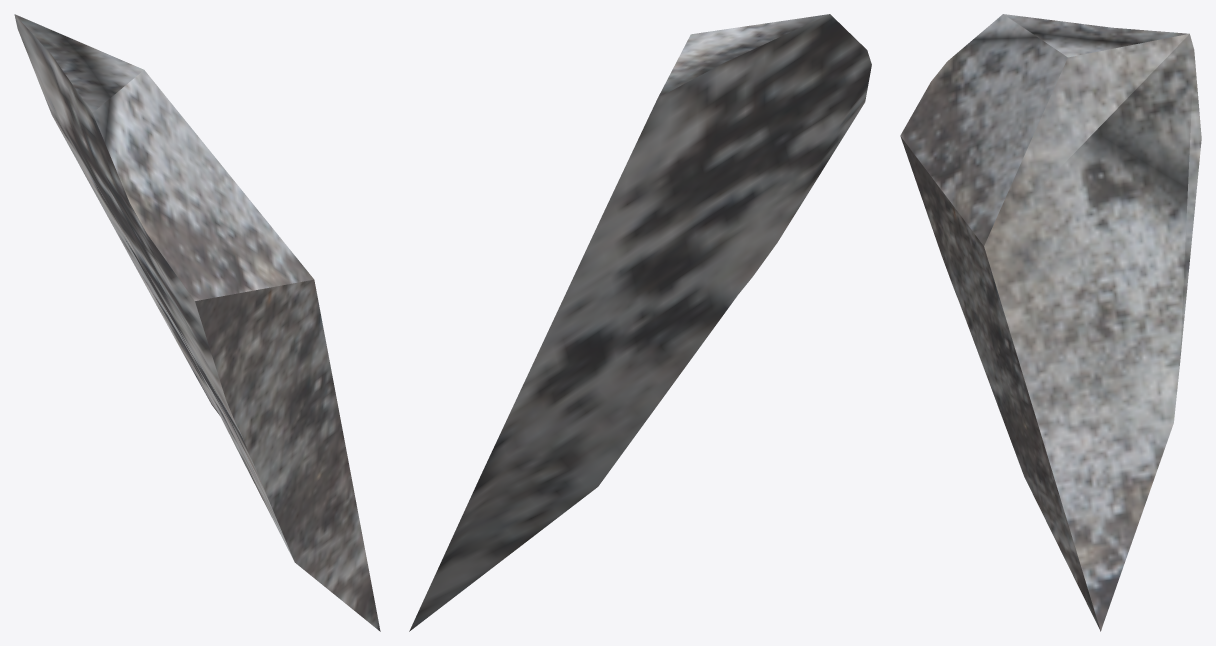
The model's file is Asteroid_Large_001_02_005_03_007.fbx.
3 renders of one model, left to right at view 1: azimuth 30°, elevation 25°; view 2: azimuth 150°, elevation 25°; view 3: azimuth 270°, elevation 25°, orthographic. The views are drawn at different scales.
Visible parts, largest first — view 1: Asteroid_Large_001_02_005_03_007; view 2: Asteroid_Large_001_02_005_03_007; view 3: Asteroid_Large_001_02_005_03_007.
Boxes of the visible parts, bbox=[...] form: Asteroid_Large_001_02_005_03_007: bbox=[14, 14, 380, 631]; Asteroid_Large_001_02_005_03_007: bbox=[409, 14, 871, 631]; Asteroid_Large_001_02_005_03_007: bbox=[900, 14, 1201, 631].
Size of the model in its own units: 4 by 7.06 by 3.95.
